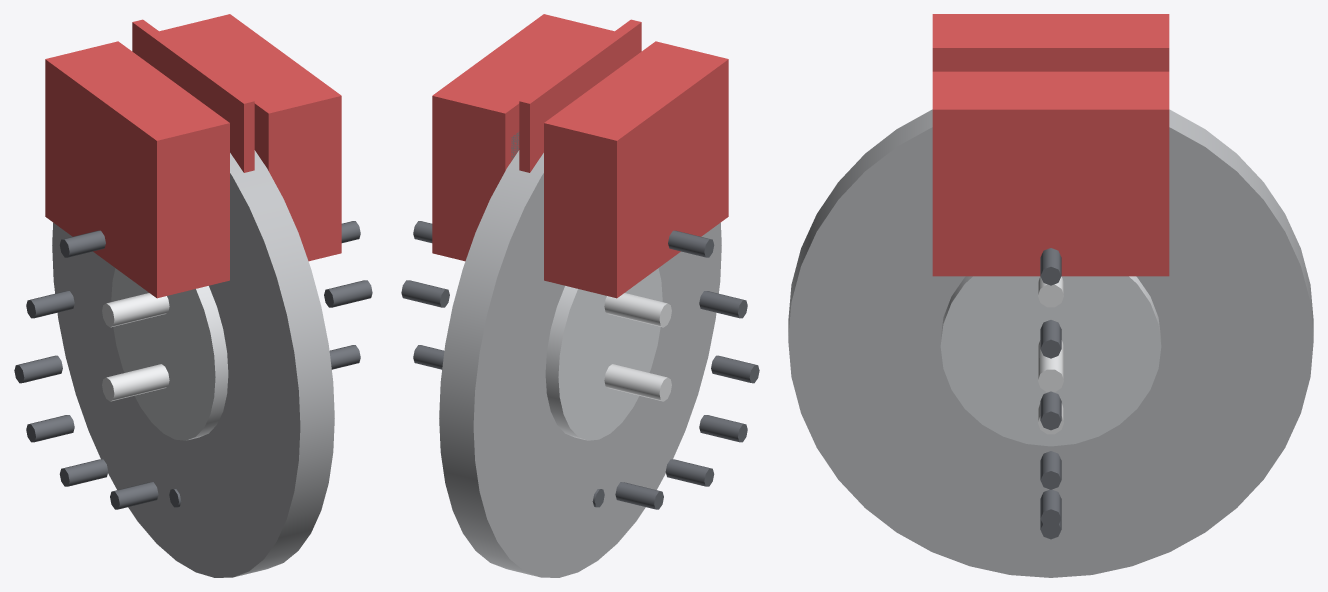
Rendered from fbrakes.glb.
The picture shows the model from 3 angles, left to right: view 1: azimuth 30°, elevation 25°; view 2: azimuth 150°, elevation 25°; view 3: azimuth 270°, elevation 25°; orthographic projection. The views are drawn at different scales.
Visible parts, largest first — view 1: disc, caliperInner, caliperOuter, hat, caliperBridge, stud_3, stud_2, drill_8, drill_0, drill_11, drill_7, drill_9 (+3 smaller); view 2: disc, caliperInner, caliperOuter, hat, caliperBridge, stud_3, stud_2, drill_8, drill_0, drill_11, drill_7, drill_9 (+3 smaller); view 3: disc, caliperOuter, hat, caliperBridge, caliperInner, stud_0, drill_0, drill_1, drill_14, drill_15, drill_2.
Part boxes in pixels (x1=…): disc: x1=52, y1=150, x2=334, y2=577; caliperInner: x1=45, y1=41, x2=229, y2=298; caliperOuter: x1=159, y1=14, x2=341, y2=261; hat: x1=111, y1=268, x2=228, y2=440; caliperBridge: x1=132, y1=19, x2=254, y2=172; stud_3: x1=102, y1=364, x2=169, y2=401; stud_2: x1=102, y1=293, x2=169, y2=327; drill_8: x1=14, y1=355, x2=62, y2=383; drill_0: x1=324, y1=280, x2=372, y2=307; drill_11: x1=110, y1=482, x2=158, y2=509; drill_7: x1=26, y1=291, x2=74, y2=318; drill_9: x1=26, y1=415, x2=74, y2=442; disc: x1=439, y1=150, x2=721, y2=577; caliperInner: x1=544, y1=41, x2=728, y2=298; caliperOuter: x1=432, y1=14, x2=614, y2=261; hat: x1=545, y1=268, x2=662, y2=440; caliperBridge: x1=519, y1=19, x2=641, y2=172; stud_3: x1=604, y1=364, x2=671, y2=401; stud_2: x1=604, y1=293, x2=671, y2=327; drill_8: x1=711, y1=355, x2=759, y2=383; drill_0: x1=401, y1=280, x2=449, y2=307; drill_11: x1=615, y1=482, x2=663, y2=509; drill_7: x1=699, y1=291, x2=747, y2=318; drill_9: x1=699, y1=415, x2=747, y2=442; disc: x1=788, y1=109, x2=1313, y2=577; caliperOuter: x1=932, y1=71, x2=1169, y2=276; hat: x1=940, y1=276, x2=1161, y2=446; caliperBridge: x1=932, y1=42, x2=1169, y2=71; caliperInner: x1=932, y1=14, x2=1169, y2=42; stud_0: x1=1038, y1=340, x2=1063, y2=392; drill_0: x1=1040, y1=391, x2=1061, y2=430; drill_1: x1=1040, y1=320, x2=1061, y2=358; drill_14: x1=1040, y1=489, x2=1061, y2=527; drill_15: x1=1040, y1=451, x2=1061, y2=489; drill_2: x1=1040, y1=248, x2=1061, y2=285.
Size of the model in its own units: 1.62 by 2.2 by 2.
